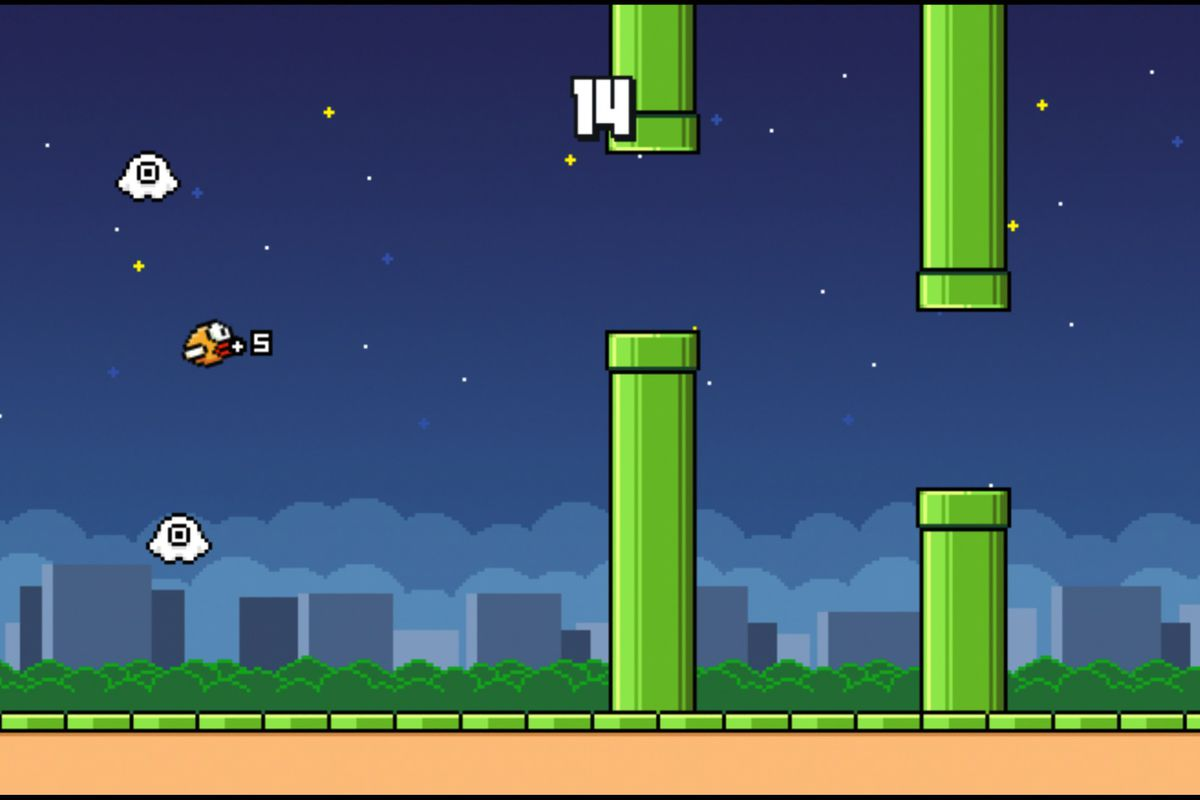flappybird: (174, 317, 234, 370)
green-pipe-down: (599, 329, 702, 711), (915, 484, 1016, 715)
green-pipe-up: (914, 5, 1023, 310), (608, 8, 709, 160)
